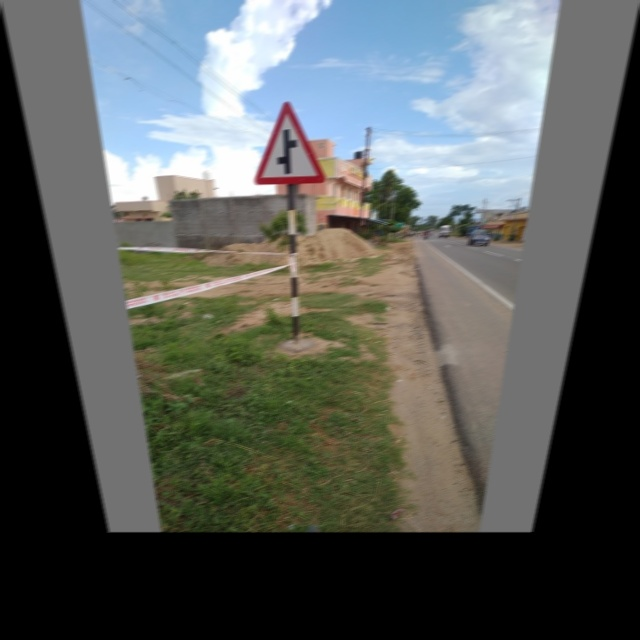Staggered_Intersection: (247, 96, 336, 193)
